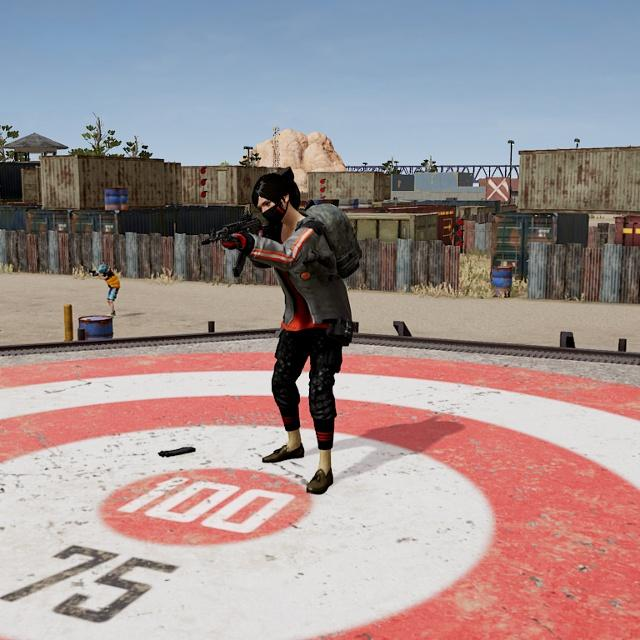head: (250, 167, 301, 226), (97, 263, 109, 276)
people: (230, 160, 359, 498), (91, 261, 122, 319)
